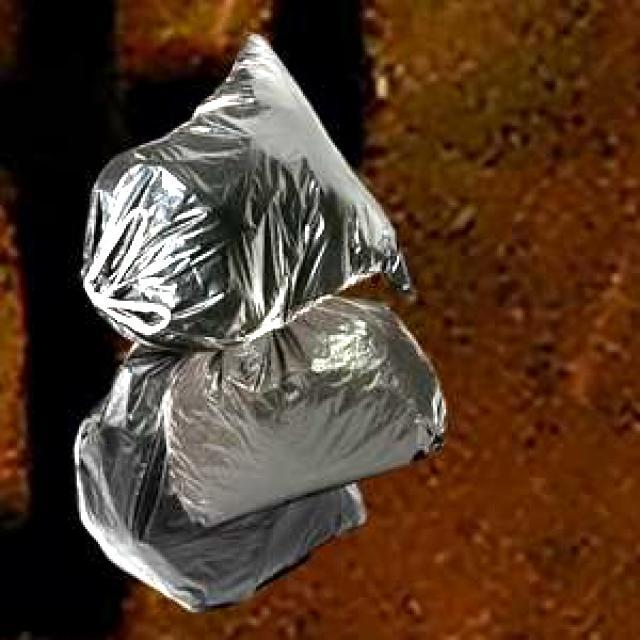Garbage_Bag: (76, 29, 410, 349), (71, 338, 362, 609), (161, 293, 445, 524)
